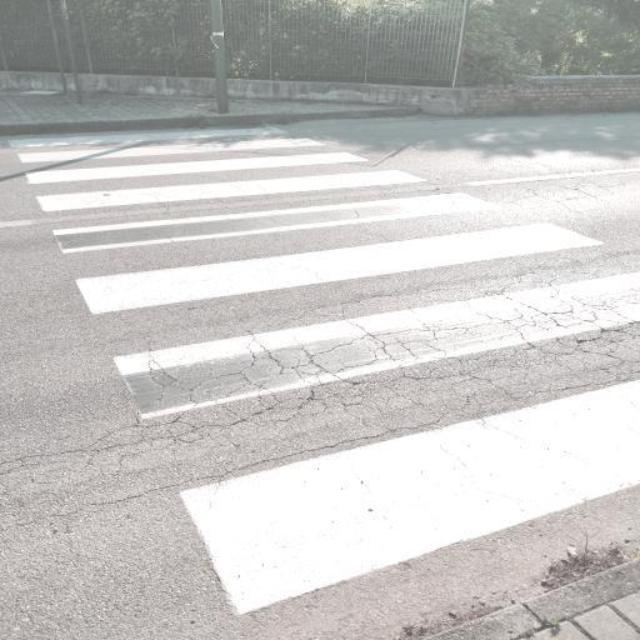sidewalk: (16, 125, 635, 623)
